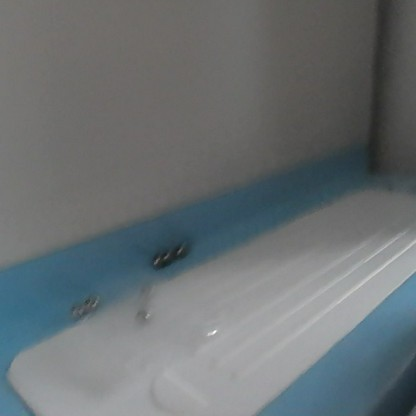ironball: (66, 304, 85, 324), (79, 294, 99, 312), (137, 279, 155, 298), (134, 305, 151, 324), (173, 240, 190, 257), (147, 255, 165, 271), (158, 250, 173, 265)
